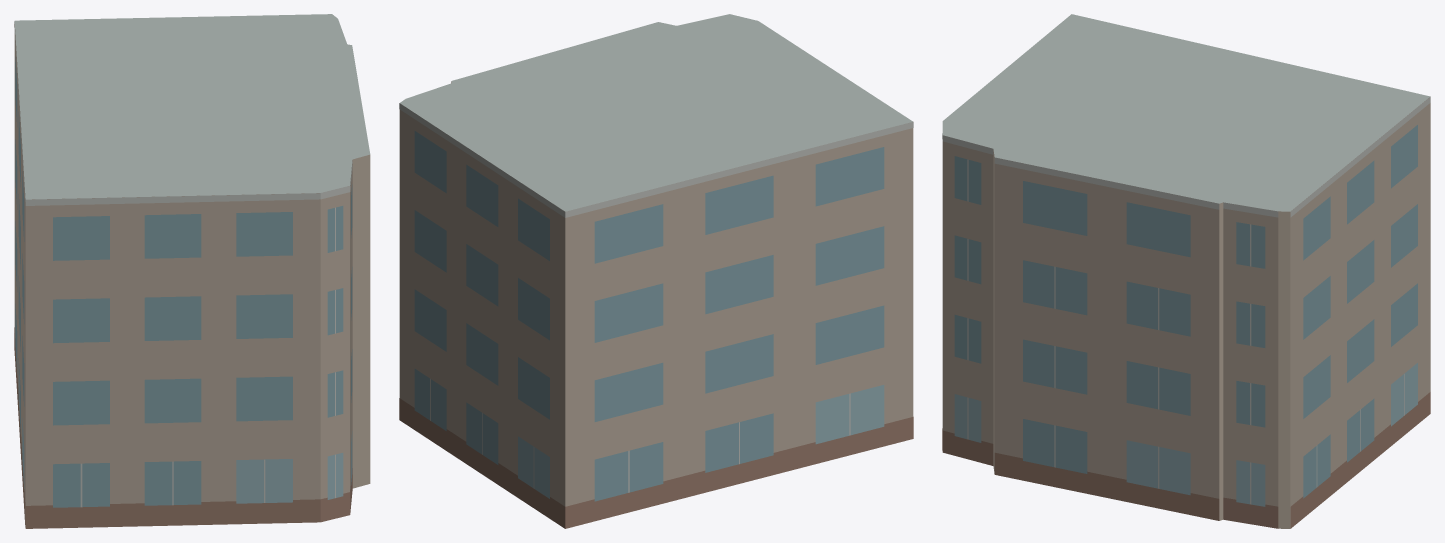
The model's file is survey-upis-32736630.glb.
3 views of the same model, side by side, from view 1: azimuth 30°, elevation 25°; view 2: azimuth 150°, elevation 25°; view 3: azimuth 270°, elevation 25° (orthographic). The views are drawn at different scales.
Parts seen in each view (by area): view 1: survey-upis-32736630.tmp; view 2: survey-upis-32736630.tmp; view 3: survey-upis-32736630.tmp.
Part boxes in pixels (bbox=[...]): survey-upis-32736630.tmp: bbox=[14, 14, 370, 528]; survey-upis-32736630.tmp: bbox=[399, 14, 913, 528]; survey-upis-32736630.tmp: bbox=[942, 14, 1430, 528].
Size of the model in its own units: 16.7 by 12.5 by 17.43.
